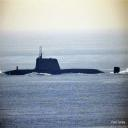submarine: (1, 59, 121, 77)
